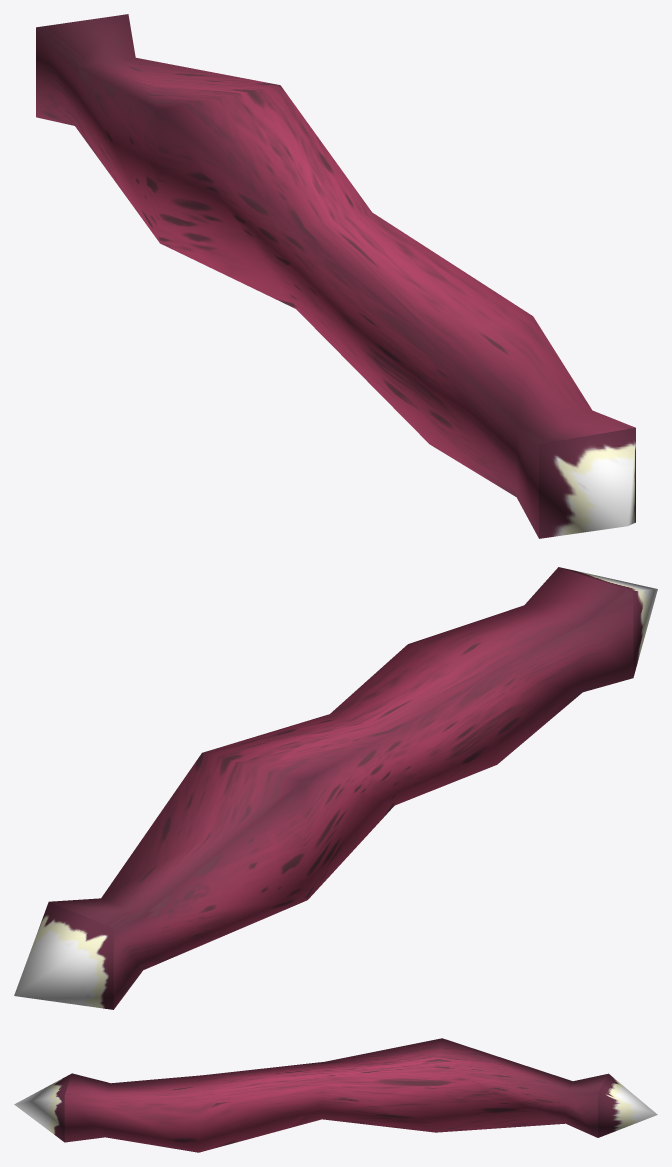
The model's file is Thorn_Throwed.fbx.
The picture shows the model from 3 angles, top to bottom: view 1: azimuth 30°, elevation 25°; view 2: azimuth 150°, elevation 25°; view 3: azimuth 270°, elevation 25°; orthographic projection. The views are drawn at different scales.
Visible parts, largest first — view 1: Thorn_Thrown; view 2: Thorn_Thrown; view 3: Thorn_Thrown.
Boxes of the visible parts, x1,y1,x2,y2 form: Thorn_Thrown: (36,14,635,538); Thorn_Thrown: (14,567,657,1009); Thorn_Thrown: (14,1038,657,1152).
Size of the model in its own units: 1.03 by 1.23 by 8.69.
